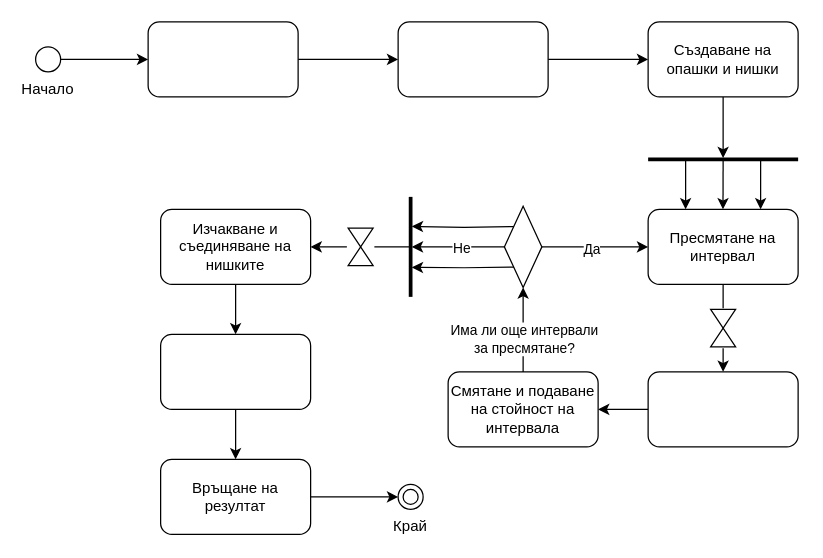
This 823x558 diagram has some shape labels left out. Each missing label, with the centre of its shape:
Получаване на финалния резултат: (x=235, y=371)
Пресмятане на интервалите: (x=472, y=59)
Проверка на входни данни: (x=222, y=59)
Чакане на резултат от предходна нишка: (x=722, y=409)
